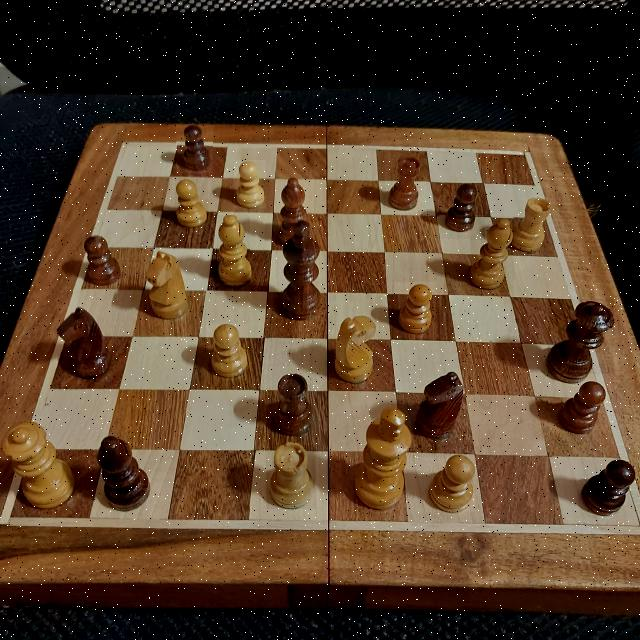black-camel: (95, 432, 147, 516)
black-elephant: (270, 373, 312, 441), (384, 155, 426, 214)
black-horse: (56, 300, 112, 386), (418, 372, 466, 446)
black-king: (269, 222, 327, 318)
black-pawn: (550, 378, 615, 432), (579, 460, 636, 518), (439, 183, 485, 240), (80, 230, 120, 286), (176, 125, 213, 173)
black-queen: (548, 299, 614, 374)
white-camel: (470, 216, 514, 292), (210, 216, 250, 284)
white-elephant: (266, 445, 316, 509), (271, 174, 314, 230), (513, 200, 554, 253)
white-king: (348, 408, 415, 516)
white-pawn: (424, 454, 476, 512), (394, 282, 437, 338), (206, 324, 248, 380), (175, 178, 208, 230), (233, 160, 266, 208)
